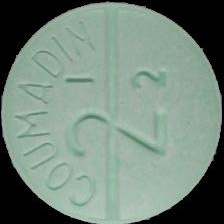0056-0176: (0, 0, 224, 224)
